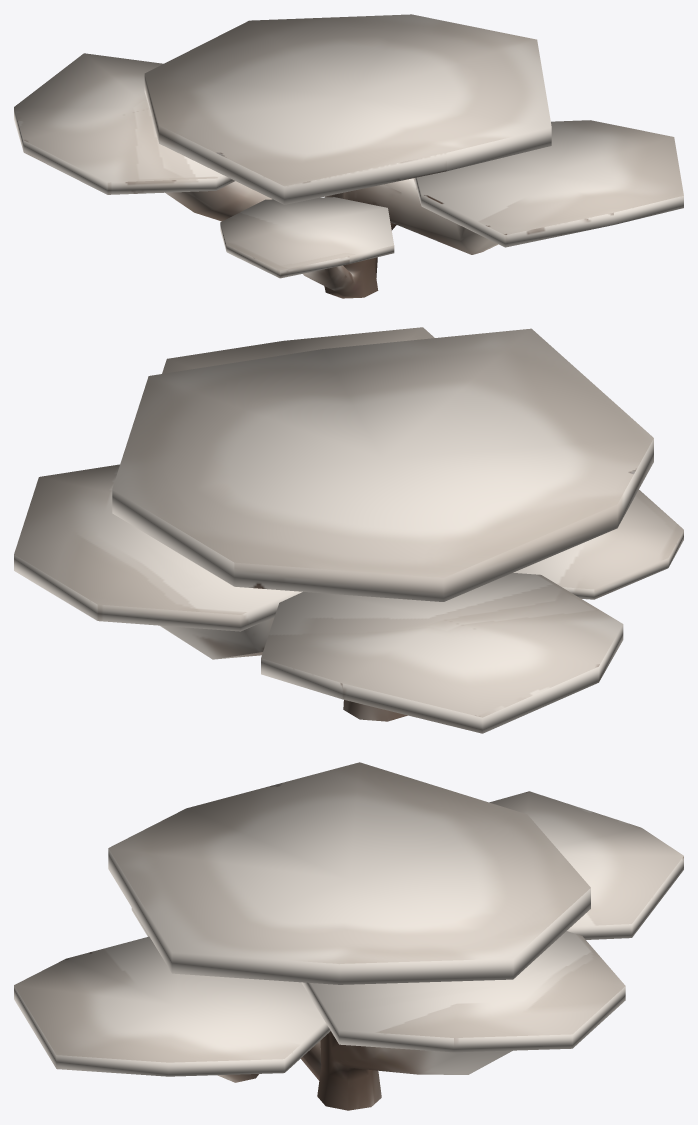
The model's file is JamurTiram.fbx.
3 views of the same model, one above another, from view 1: azimuth 30°, elevation 25°; view 2: azimuth 150°, elevation 25°; view 3: azimuth 270°, elevation 25° (orthographic). The views are drawn at different scales.
Visible parts, largest first — view 1: j.tiram; view 2: j.tiram; view 3: j.tiram.
Part boxes in pixels (x1=…): j.tiram: x1=14, y1=14, x2=683, y2=298; j.tiram: x1=14, y1=327, x2=683, y2=733; j.tiram: x1=14, y1=762, x2=683, y2=1110.
Size of the model in its own units: 70.82 by 29.59 by 73.87.
